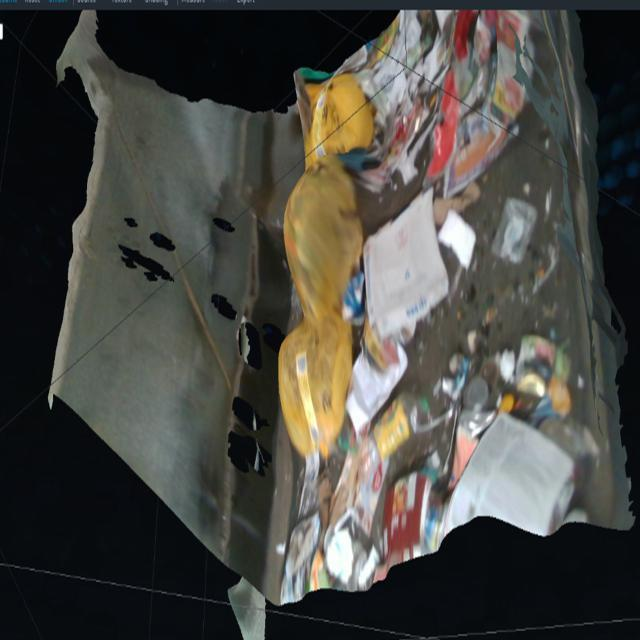waste: (284, 166, 360, 320), (274, 319, 346, 452), (302, 77, 372, 161)
